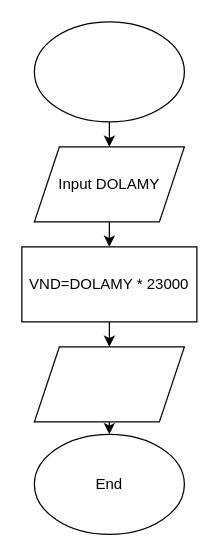
The diagram is 219 pixels wide and 556 high, and some of its shapes have lost their labels. The shapes that lost their labels are listed below. From the top down, each one's centre as x and y in pixels, then its label:
(108,71): Begin
(108,384): Display "VND''
